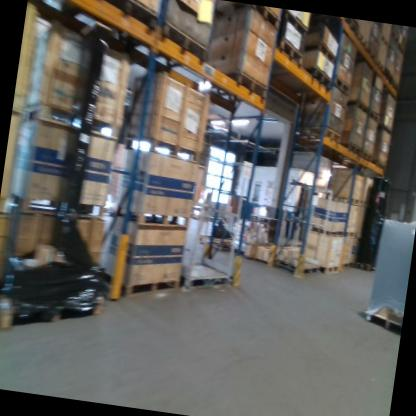pallet: (0, 274, 108, 345), (27, 97, 124, 140), (10, 189, 105, 224), (97, 268, 181, 304), (85, 0, 165, 36), (156, 17, 213, 64), (121, 135, 200, 164), (114, 205, 190, 231), (222, 68, 270, 100), (362, 302, 403, 335), (298, 120, 344, 145), (277, 8, 311, 39), (273, 37, 306, 68), (300, 65, 334, 92), (303, 40, 338, 65), (273, 258, 319, 277), (248, 4, 280, 29), (198, 233, 233, 252), (330, 75, 352, 98), (326, 193, 360, 206), (338, 17, 361, 36), (308, 225, 344, 237), (345, 97, 370, 114), (340, 143, 363, 158), (363, 44, 378, 65), (316, 262, 339, 275), (355, 32, 370, 50), (377, 123, 393, 138), (365, 108, 380, 123), (373, 58, 386, 73), (378, 31, 390, 47), (353, 261, 370, 272), (382, 69, 394, 84), (361, 151, 374, 164), (389, 28, 400, 43), (372, 160, 387, 171), (339, 261, 350, 270), (391, 82, 400, 93), (344, 230, 355, 238)
